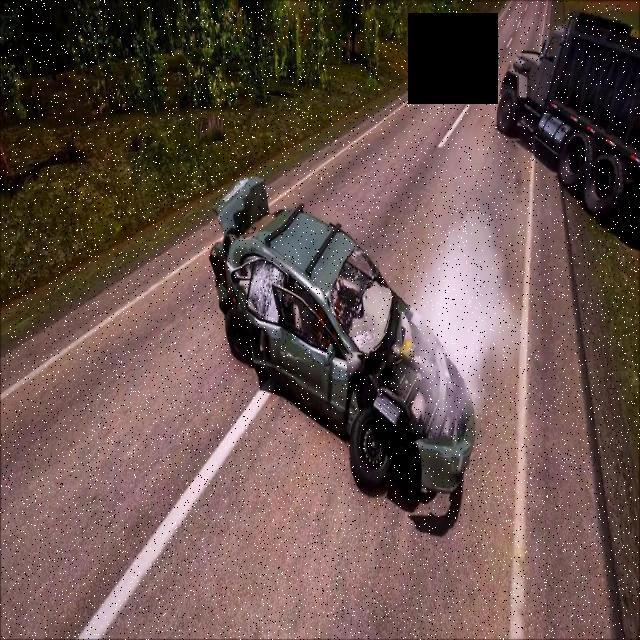severe: (206, 168, 480, 502)
